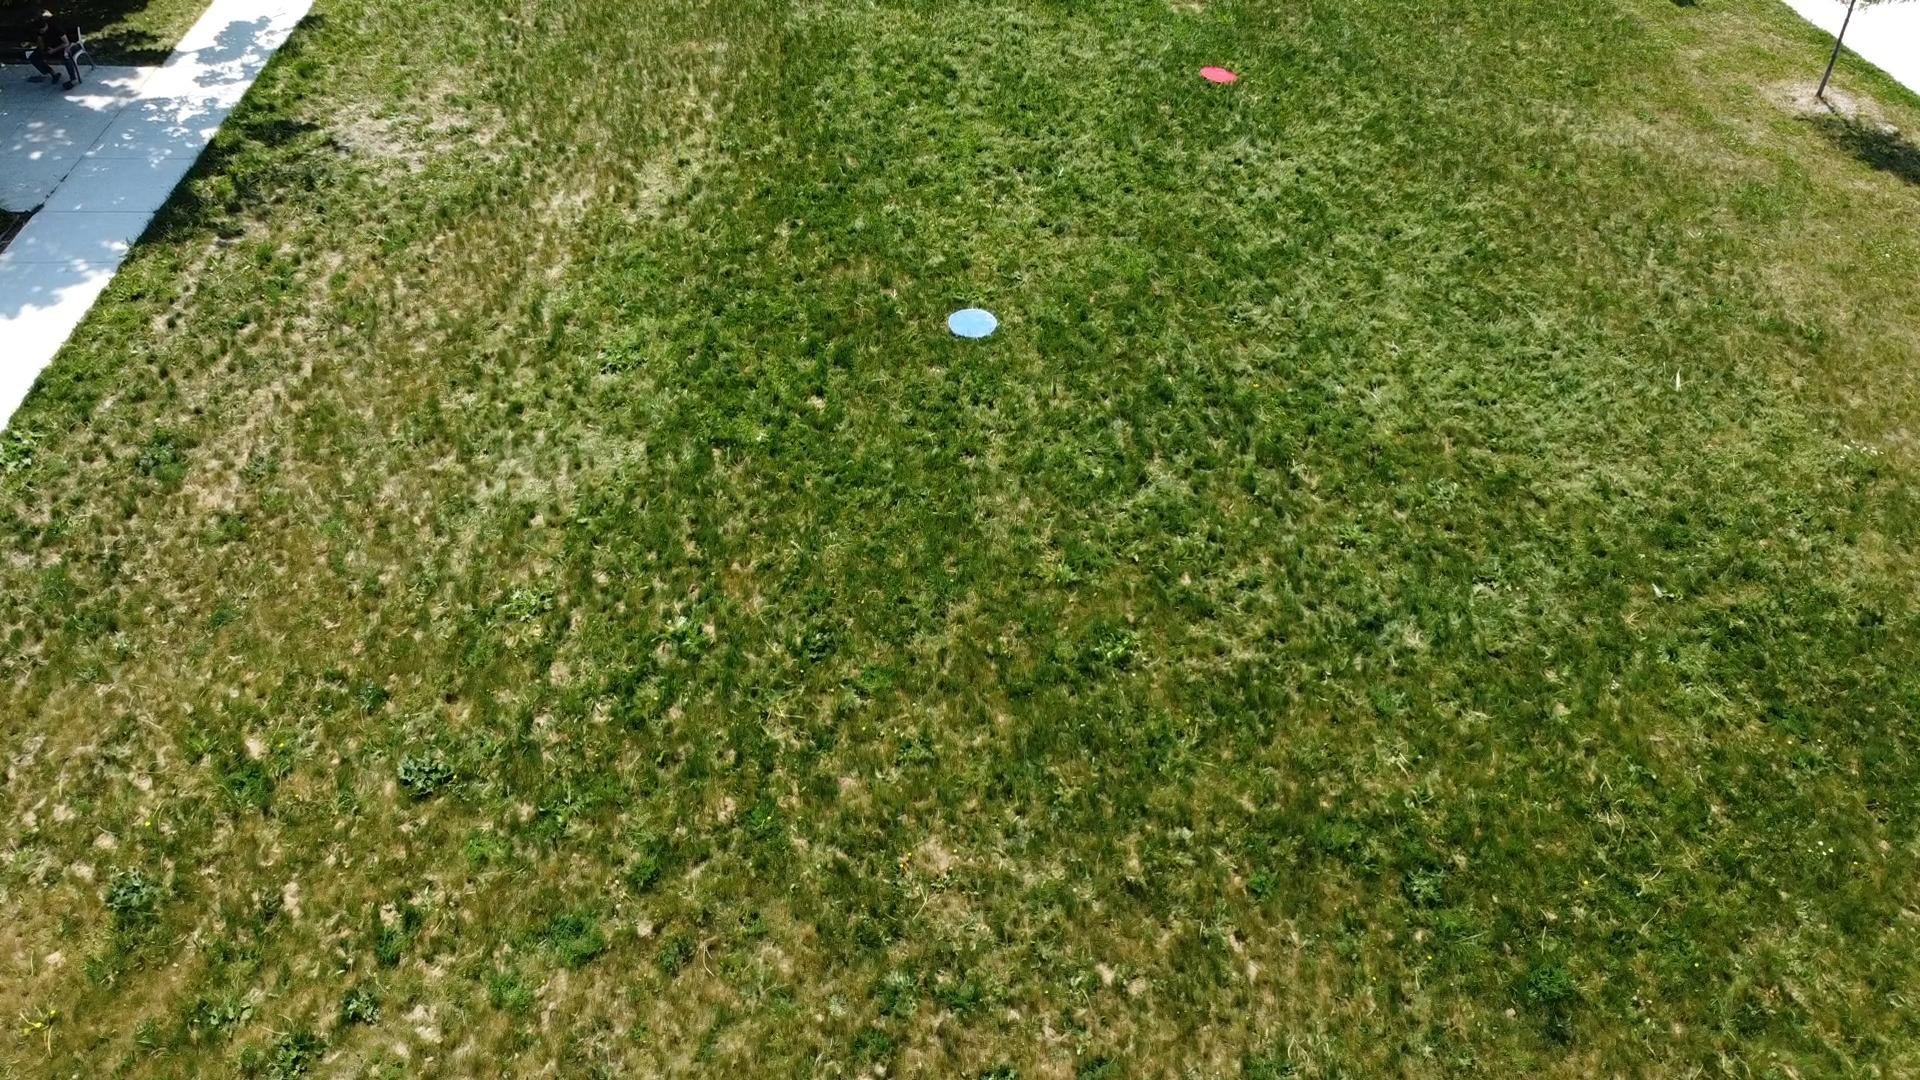Blue: (945, 306, 1002, 340)
Red: (1196, 65, 1241, 86)
